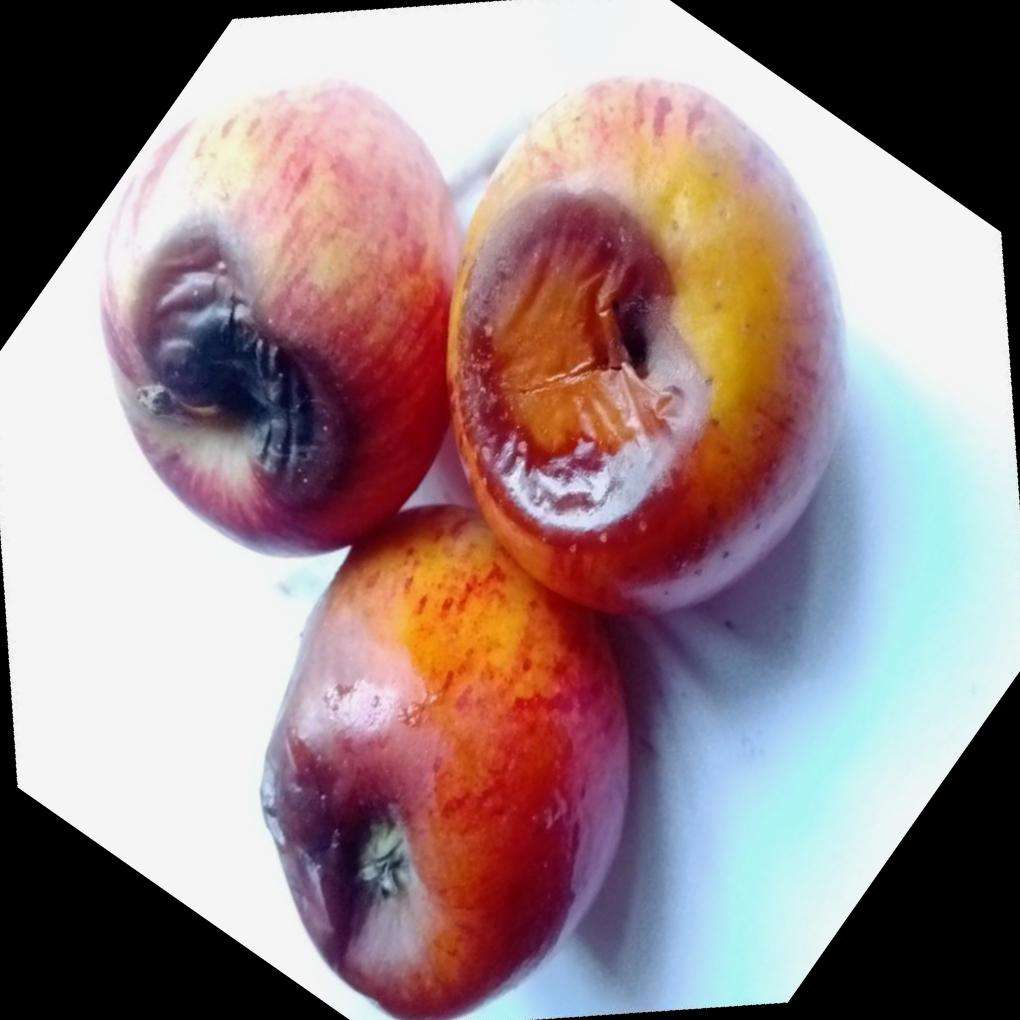FreshOrange: (98, 72, 849, 1020)
